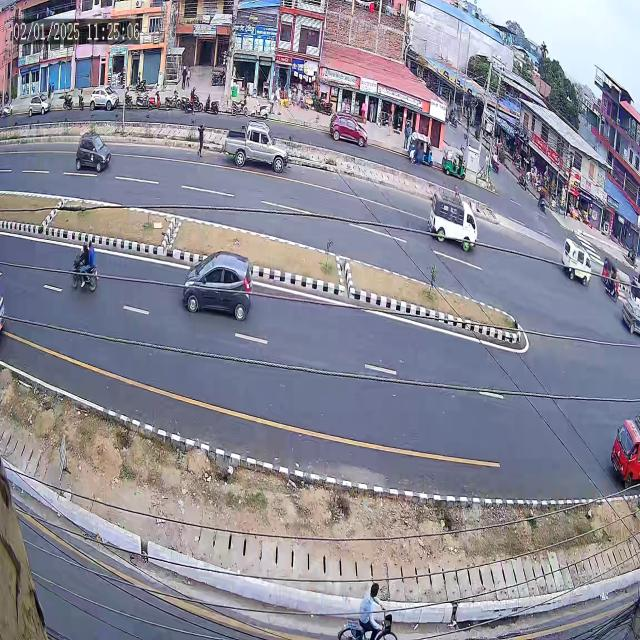car: (168, 229, 286, 361), (72, 125, 116, 180)
motorcycle: (67, 224, 111, 328)
van: (422, 187, 482, 266), (556, 231, 595, 297)
